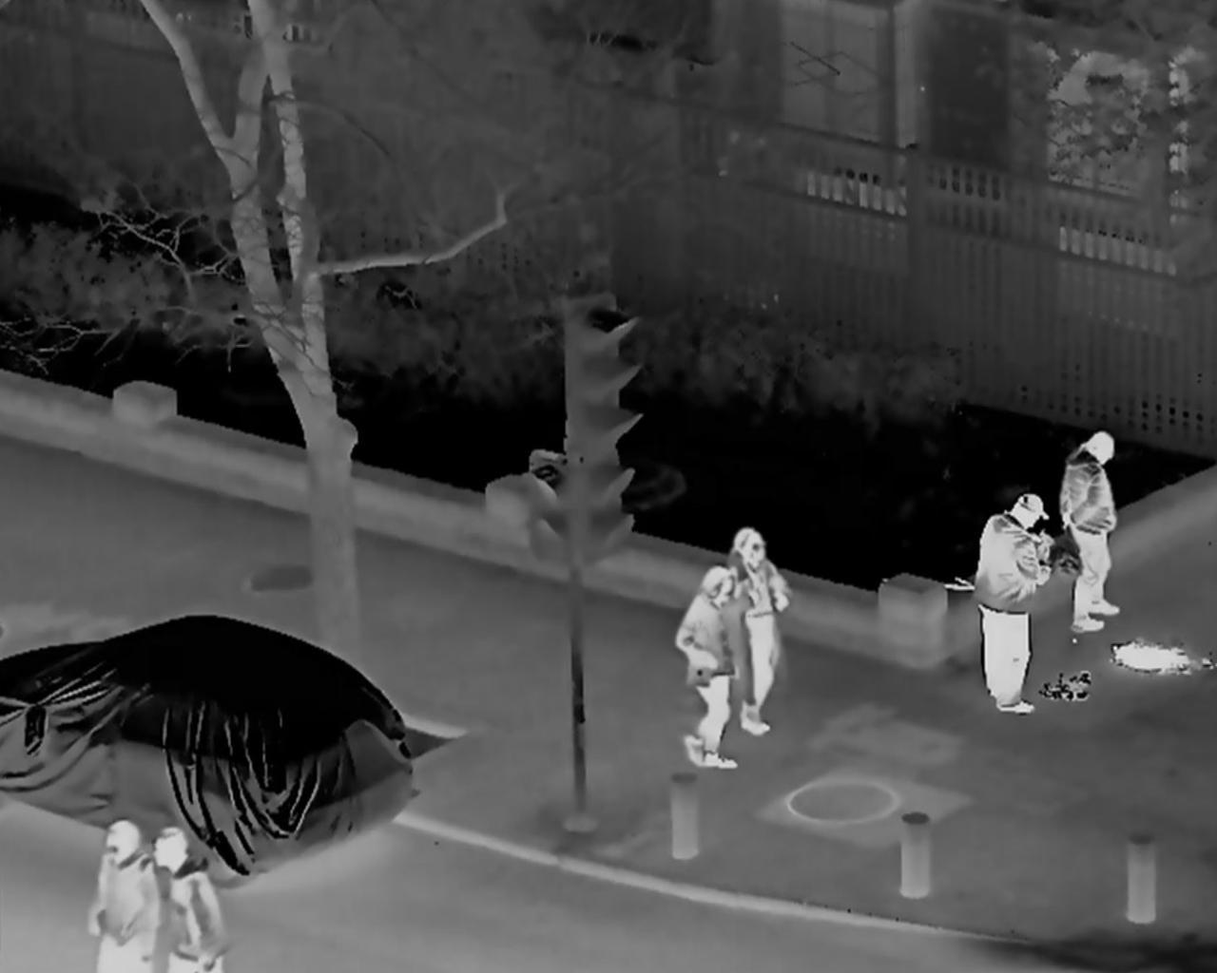person: (975, 491, 1053, 710), (721, 527, 793, 735), (670, 564, 741, 773), (1057, 431, 1126, 637), (152, 827, 231, 973), (85, 823, 157, 973)
